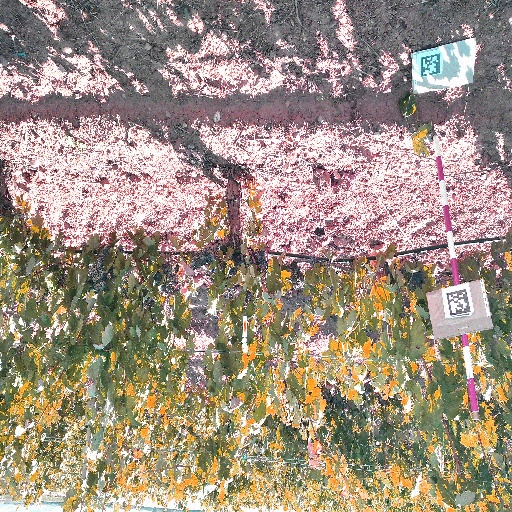QR: (447, 290, 471, 317), (422, 53, 441, 76)
